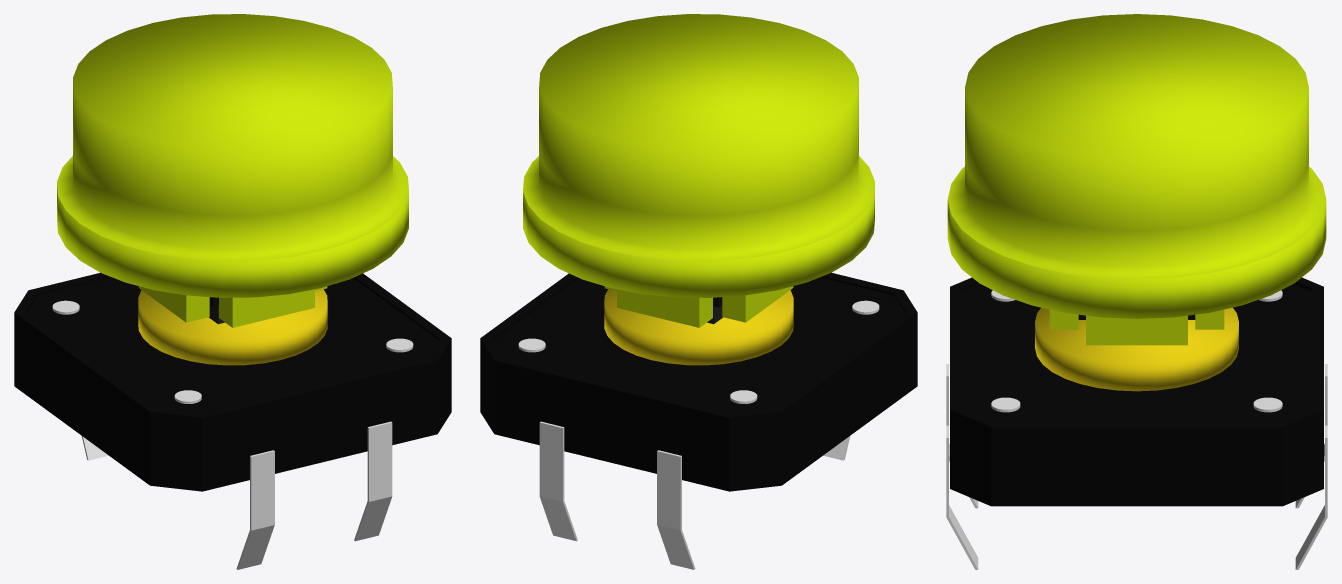
The model's file is schalter.glb.
3 views of the same model, side by side, from view 1: azimuth 30°, elevation 25°; view 2: azimuth 150°, elevation 25°; view 3: azimuth 270°, elevation 25° (orthographic). The views are drawn at different scales.
Parts seen in each view (by area): view 1: Cylinder.005, Cube, Cylinder.004, Cube.004, Cylinder.002; view 2: Cylinder.005, Cube, Cylinder.004, Cube.004, Cylinder.002; view 3: Cylinder.005, Cube, Cylinder.004, Cube.004, Cylinder.002.
Part boxes in pixels (x1,y1,x2,y2): Cylinder.005: (57, 14, 408, 327); Cube: (14, 272, 451, 491); Cylinder.004: (138, 289, 327, 365); Cube.004: (81, 421, 392, 569); Cylinder.002: (52, 300, 413, 403); Cylinder.005: (523, 14, 874, 327); Cube: (480, 272, 917, 491); Cylinder.004: (604, 289, 793, 365); Cube.004: (539, 421, 850, 569); Cylinder.002: (518, 300, 879, 403); Cylinder.005: (947, 14, 1326, 345); Cube: (950, 277, 1323, 506); Cylinder.004: (1035, 307, 1238, 391); Cube.004: (946, 364, 1327, 569); Cylinder.002: (991, 290, 1282, 412).
Size of the model in its own units: 0.013 by 0.0169 by 0.0131.
